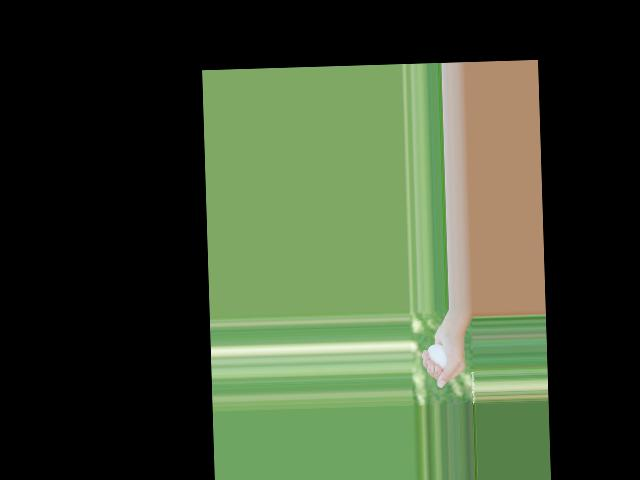egg: (427, 344, 447, 370)
